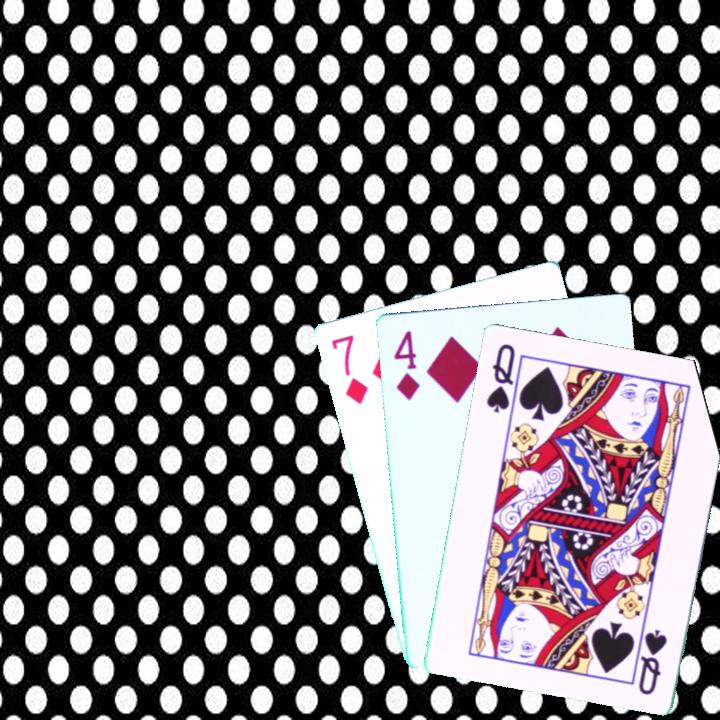4d: (390, 326, 423, 403)
7d: (327, 331, 370, 407)
Qs: (482, 339, 524, 421), (634, 625, 670, 698)
